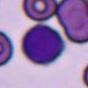L: (22, 24, 64, 64)
